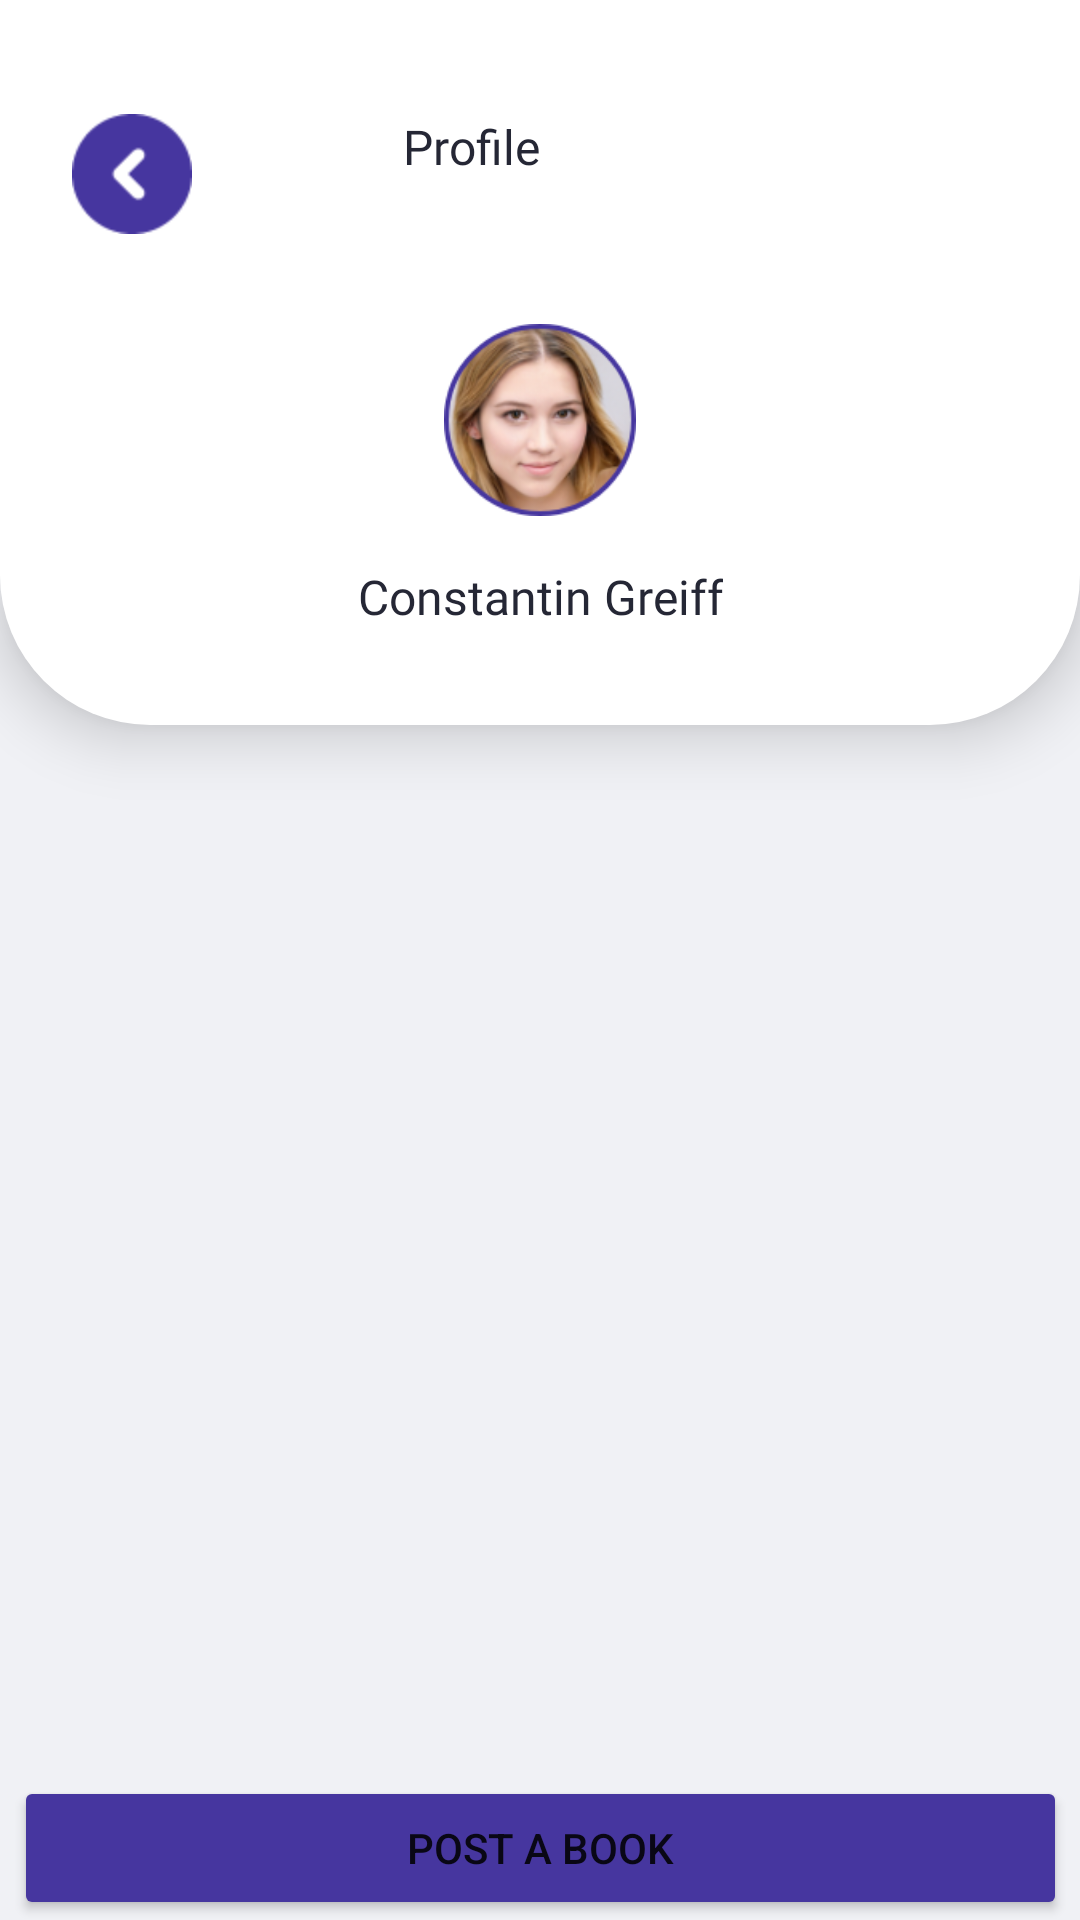

Icon bounding boxes for this 1080w x 1920h phone screenshot, format bbox=(x1, y1, x2, y2):
back: bbox=(72, 114, 192, 234)
